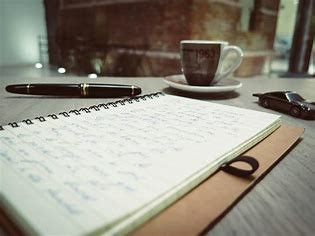pen: (4, 83, 147, 97)
